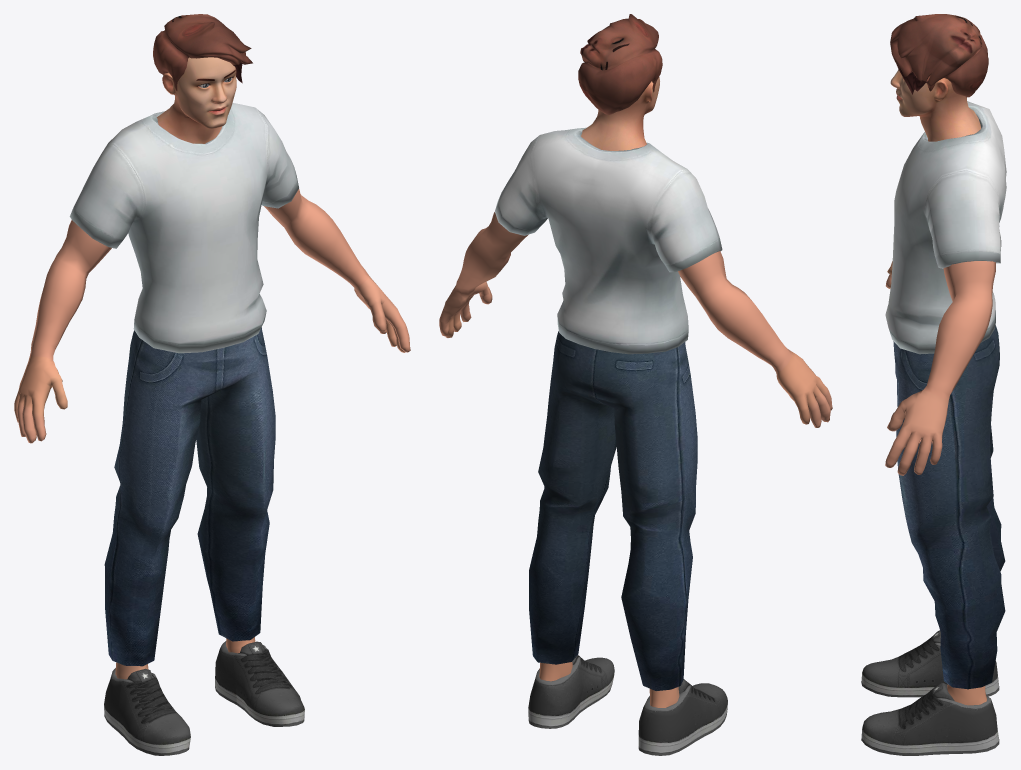
File: Muscular_Character_Base.glb
The picture shows the model from 3 angles, left to right: view 1: azimuth 30°, elevation 25°; view 2: azimuth 150°, elevation 25°; view 3: azimuth 270°, elevation 25°; orthographic projection.
Visible parts, largest first — view 1: Head.004, Head.001, Head.002, Outfit_Footwear.001, Head.005, Head.006; view 2: Head.004, Head.001, Head.002, Outfit_Footwear.001, Head.006, Head.005; view 3: Head.004, Head.001, Outfit_Footwear.001, Head.002, Head.006, Head.005, Head.009.
Part boxes in pixels (bbox=[...]): Head.004: bbox=[104, 327, 275, 666]; Head.001: bbox=[69, 103, 298, 353]; Head.002: bbox=[14, 189, 410, 443]; Outfit_Footwear.001: bbox=[104, 641, 304, 755]; Head.005: bbox=[157, 57, 236, 143]; Head.006: bbox=[153, 14, 252, 91]; Head.004: bbox=[529, 331, 697, 690]; Head.001: bbox=[494, 127, 722, 354]; Head.002: bbox=[439, 212, 832, 427]; Outfit_Footwear.001: bbox=[528, 655, 727, 755]; Head.006: bbox=[578, 14, 662, 114]; Head.005: bbox=[581, 77, 659, 150]; Head.004: bbox=[893, 325, 1005, 689]; Head.001: bbox=[885, 101, 1006, 354]; Outfit_Footwear.001: bbox=[861, 630, 999, 755]; Head.002: bbox=[885, 261, 995, 475]; Head.006: bbox=[890, 14, 988, 97]; Head.005: bbox=[890, 69, 980, 141]; Head.009: bbox=[947, 684, 986, 705].
Size of the model in its own units: 1.07 by 1.87 by 0.3504.
Materials: 6 (6 with a texture image).
